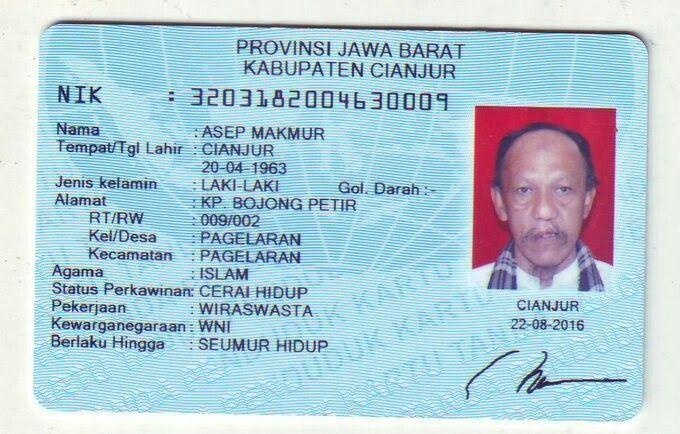ID-card: (33, 26, 647, 420)
